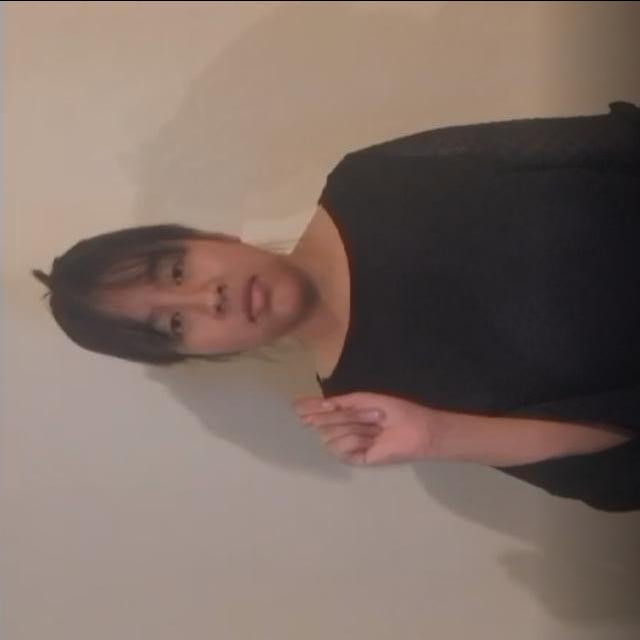T: (276, 378, 426, 474)
